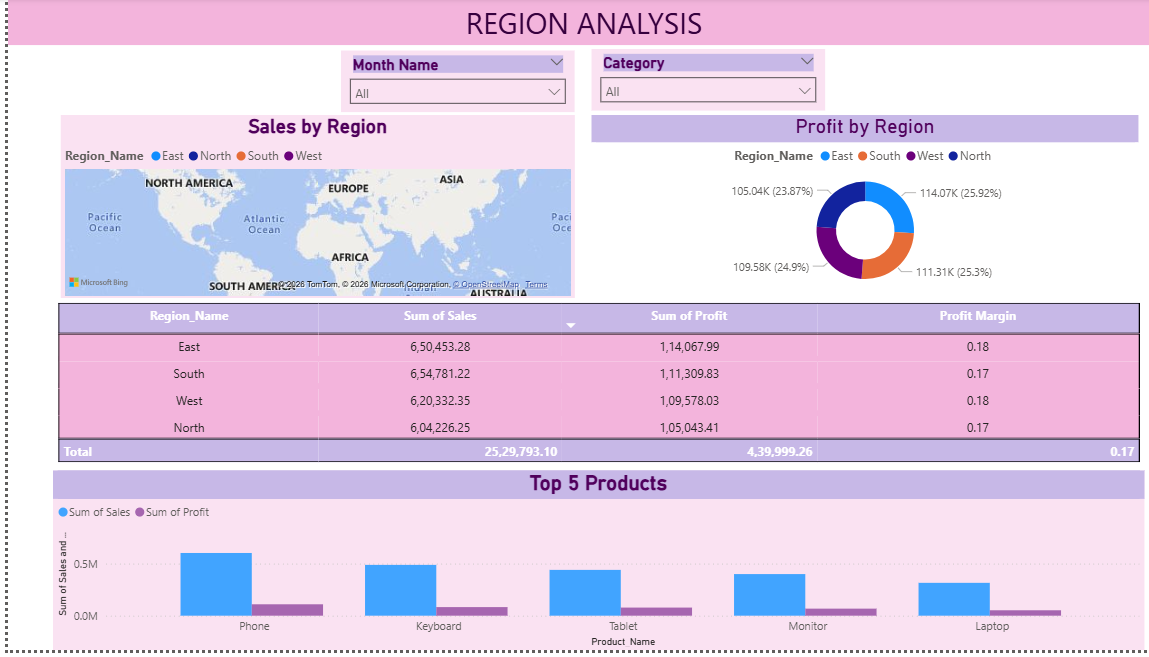

Layout of this report page (visuals, bound fields, positions):
{"tool":"powerbi","page":{"name":"Region Analysis","canvas":[1280,720],"ordinal":1},"visuals":[{"type":"map","title":"Sales by Region","fields":{"Series":["Dim_Region.Region_Name"],"Size":["Sum(Fact_Sales.Sales)"]},"box":[58,130,568,204],"z":0},{"type":"tableEx","fields":{"Values":["Dim_Region.Region_Name","Sum(Fact_Sales.Sales)","Sum(Fact_Sales.Profit)","Fact_Sales.Profit Margin"]},"box":[50,332,1206,190],"z":1000},{"type":"clusteredColumnChart","title":"Top 5 Products","fields":{"Category":["Dim_Product.Product_Name"],"Y":["Sum(Fact_Sales.Sales)","Sum(Fact_Sales.Profit)"]},"box":[50,521,1205,199],"z":2000},{"type":"donutChart","title":"Profit by Region","fields":{"Category":["Dim_Region.Region_Name"],"Y":["Sum(Fact_Sales.Profit)"]},"box":[644,130,604,200],"z":3000},{"type":"textbox","box":[0,0,1280,52],"z":4000},{"type":"slicer","fields":{"Values":["Dim_Product.Category"]},"box":[644,56,258,68],"z":5000},{"type":"slicer","fields":{"Values":["Dim_Date.Month Name"]},"box":[368,58,258,68],"z":6000}]}

Visuals, with their boxes in screenshot pixels (x1, y1, x2, y2), scaled from the page's 1280x720 canvas onto the 1149x657 screenshot:
"Sales by Region" map: <box>52,119,562,305</box>
tableEx - Dim_Region.Region_Name x Sum(Fact_Sales.Sales): <box>45,303,1127,476</box>
"Top 5 Products" clusteredColumnChart: <box>45,475,1127,656</box>
"Profit by Region" donutChart: <box>578,119,1120,301</box>
textbox: <box>0,0,1148,47</box>
slicer - Dim_Product.Category: <box>578,51,810,113</box>
slicer - Dim_Date.Month Name: <box>330,53,562,115</box>
